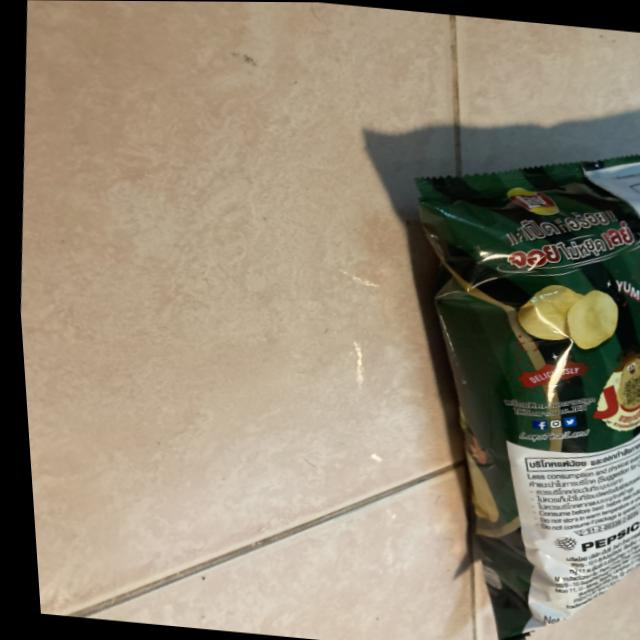Laygreen: (360, 110, 640, 640)
